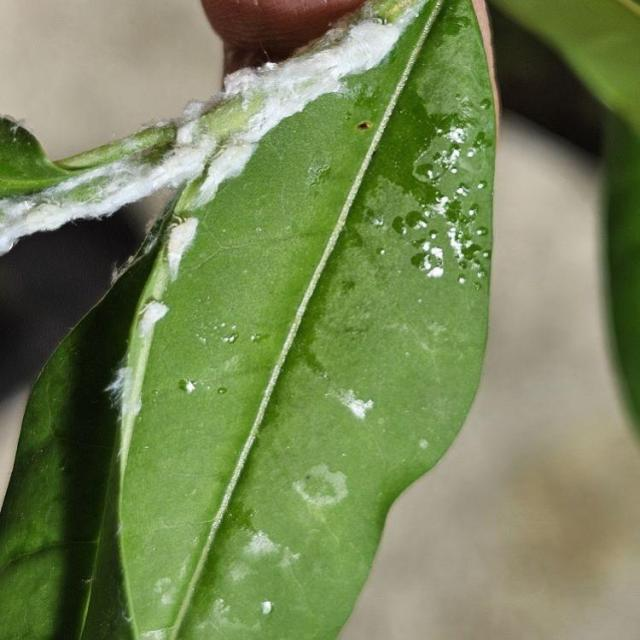Psyllid: (0, 0, 426, 256), (107, 216, 196, 480)
